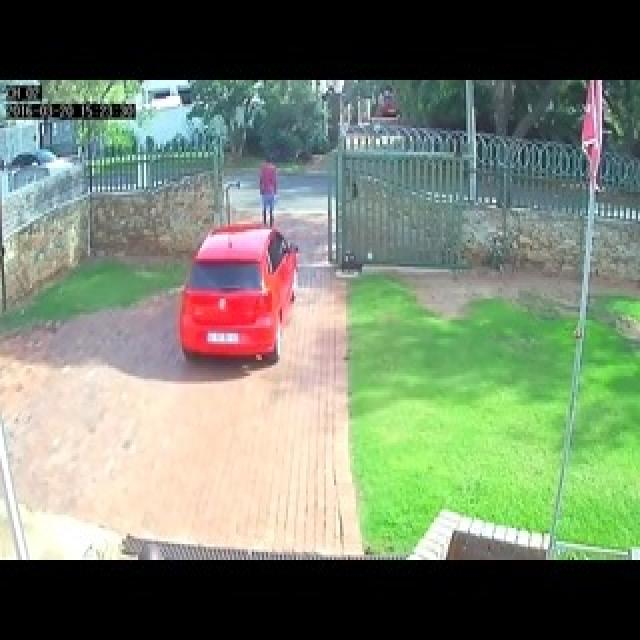thief: (247, 143, 286, 210)
